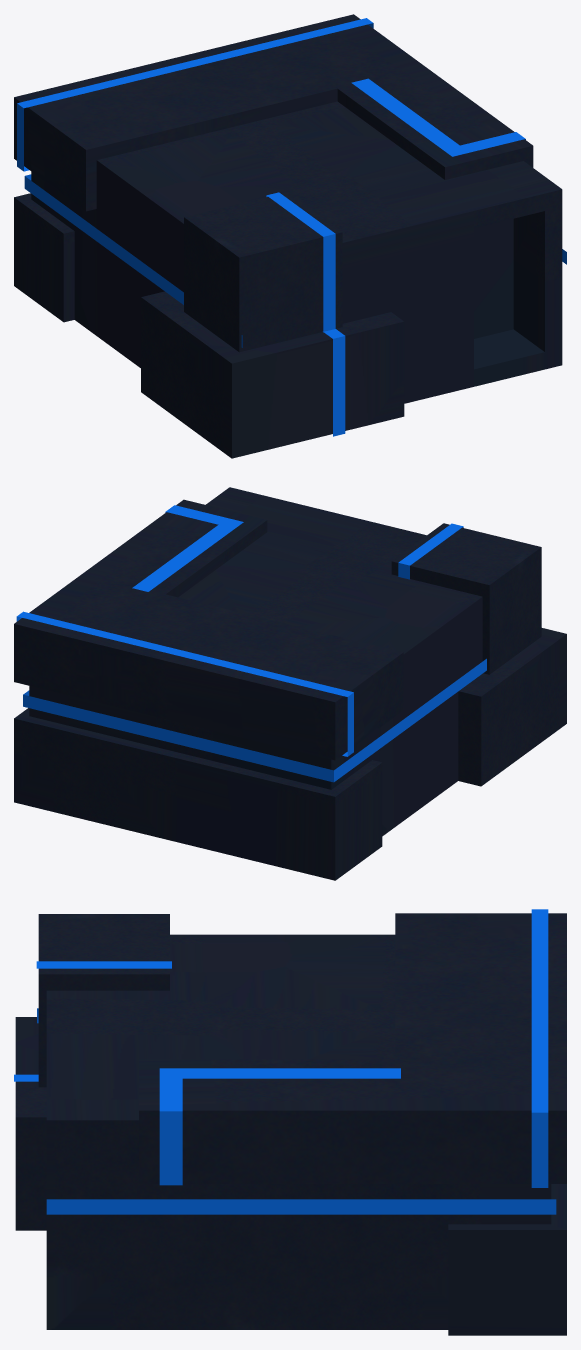
File: Blue House.fbx
The picture shows the model from 3 angles, top to bottom: view 1: azimuth 30°, elevation 25°; view 2: azimuth 150°, elevation 25°; view 3: azimuth 270°, elevation 25°; orthographic projection. The views are drawn at different scales.
Parts seen in each view (by area): view 1: Blue House, Neon1; view 2: Blue House, Neon1; view 3: Blue House, Neon1.
Boxes of the visible parts, left/top/right/bottom form: Blue House: left=14, top=14, right=562, bottom=458; Neon1: left=17, top=18, right=566, bottom=436; Blue House: left=14, top=487, right=566, bottom=880; Neon1: left=16, top=505, right=486, bottom=782; Blue House: left=15, top=913, right=566, bottom=1335; Neon1: left=14, top=909, right=556, bottom=1214.
Bounding box in the file's own units: 18.76 × 9.65 × 21.05.
